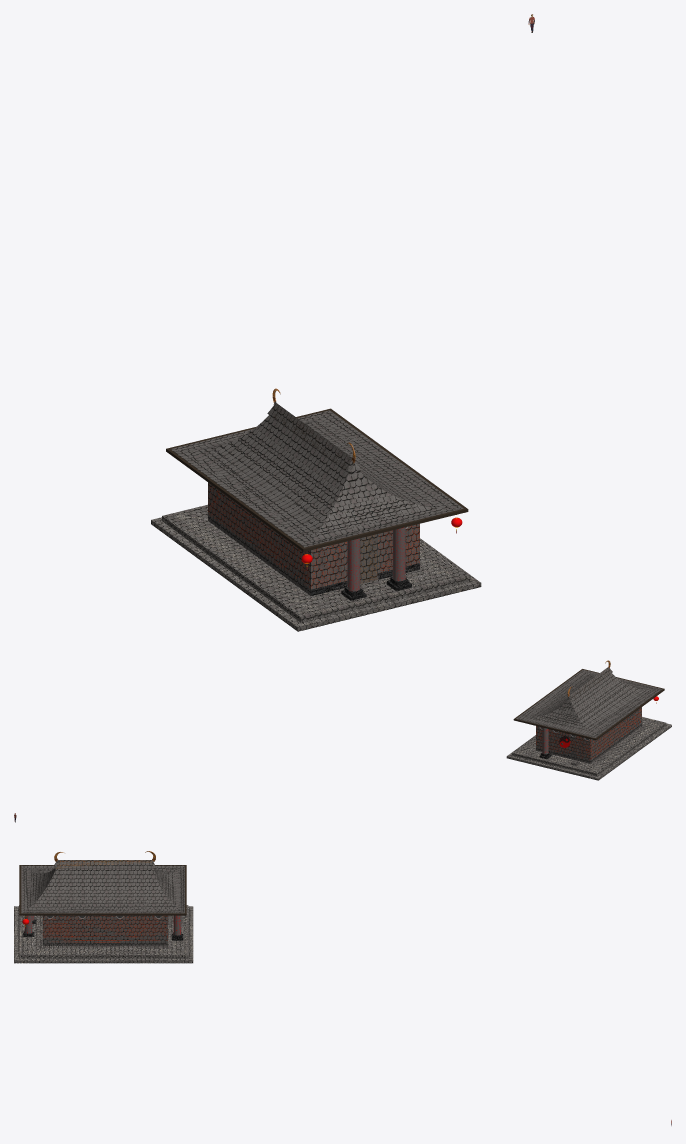
Rendered from Wang-Tsaos-Shop.fbx.
3 renders of one model, top to bottom at view 1: azimuth 30°, elevation 25°; view 2: azimuth 150°, elevation 25°; view 3: azimuth 270°, elevation 25°, orthographic. The views are drawn at different scales.
Visible parts, largest first — view 1: group_0, ID713, ID562, ID732, ID599, ID575; view 2: group_0, ID713, ID562, ID732, ID599, ID687, ID575; view 3: group_0, ID562, ID713, ID732, ID599, ID687, ID769.
Part boxes in pixels (x1,y1,x2,y2): group_0: [170, 410, 463, 547]; ID713: [162, 504, 469, 622]; ID562: [208, 482, 419, 589]; ID732: [151, 517, 481, 631]; ID599: [166, 408, 468, 551]; ID575: [267, 402, 353, 472]; group_0: [516, 669, 662, 737]; ID713: [512, 717, 666, 775]; ID562: [536, 707, 641, 760]; ID732: [506, 723, 671, 780]; ID599: [513, 669, 664, 740]; ID687: [536, 723, 641, 763]; ID575: [565, 667, 612, 702]; group_0: [21, 862, 184, 913]; ID562: [42, 915, 167, 942]; ID713: [19, 905, 188, 958]; ID732: [14, 906, 193, 963]; ID599: [19, 865, 186, 915]; ID687: [42, 942, 167, 946]; ID769: [56, 860, 152, 868].
Size of the model in its own units: 1022 by 1230 by 175.
Materials: 27 (10 with a texture image).
